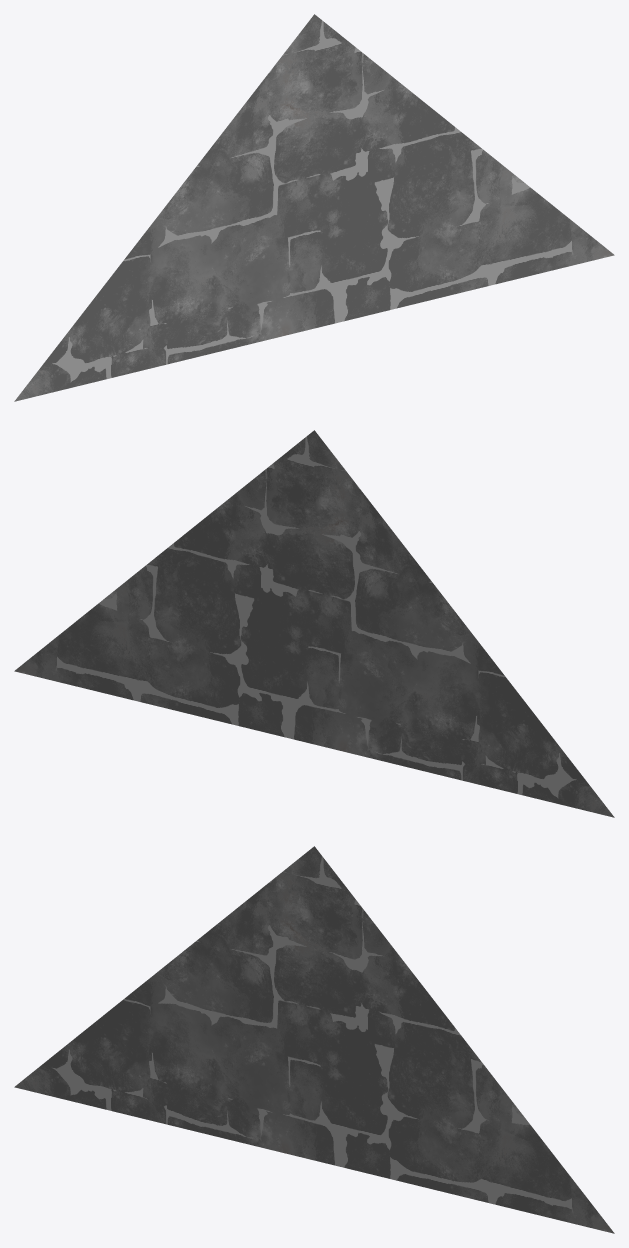
File: Wall_Roof_Spitze.fbx
The picture shows the model from 3 angles, top to bottom: view 1: azimuth 30°, elevation 25°; view 2: azimuth 150°, elevation 25°; view 3: azimuth 330°, elevation 25°; orthographic projection.
Visible parts, largest first — view 1: Wall_Roof_Spitze; view 2: Wall_Roof_Spitze; view 3: Wall_Roof_Spitze.
Boxes of the visible parts, x1=… form: Wall_Roof_Spitze: x1=14, y1=14, x2=614, y2=401; Wall_Roof_Spitze: x1=14, y1=430, x2=614, y2=817; Wall_Roof_Spitze: x1=14, y1=846, x2=614, y2=1233.
Size of the model in its own units: 5 by 2.5 by 6.46e-07.
